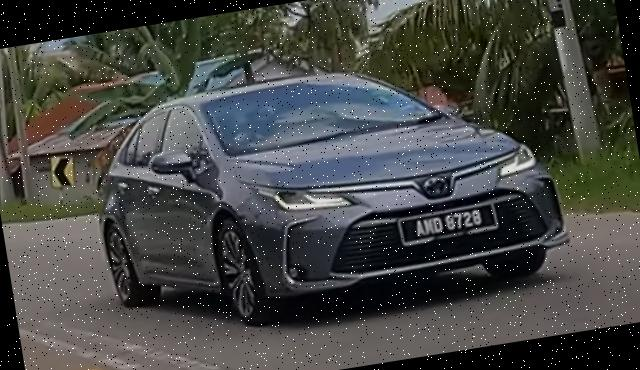License_Plate: (396, 201, 501, 249)
car: (81, 37, 577, 349)
